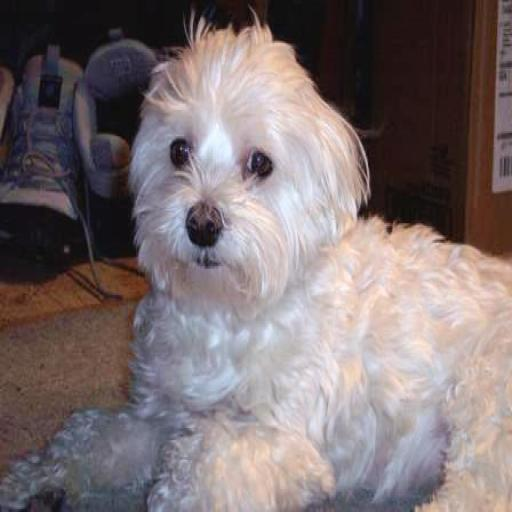dog_face: (129, 23, 340, 299)
